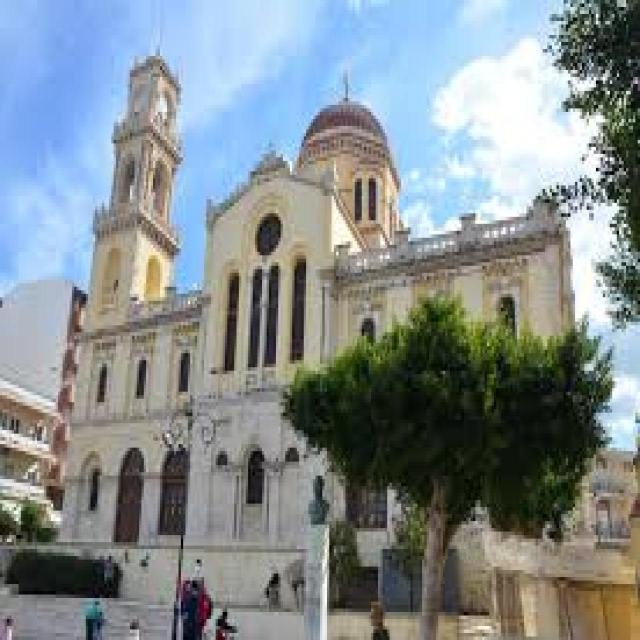Agios Minas: (54, 21, 578, 608)
